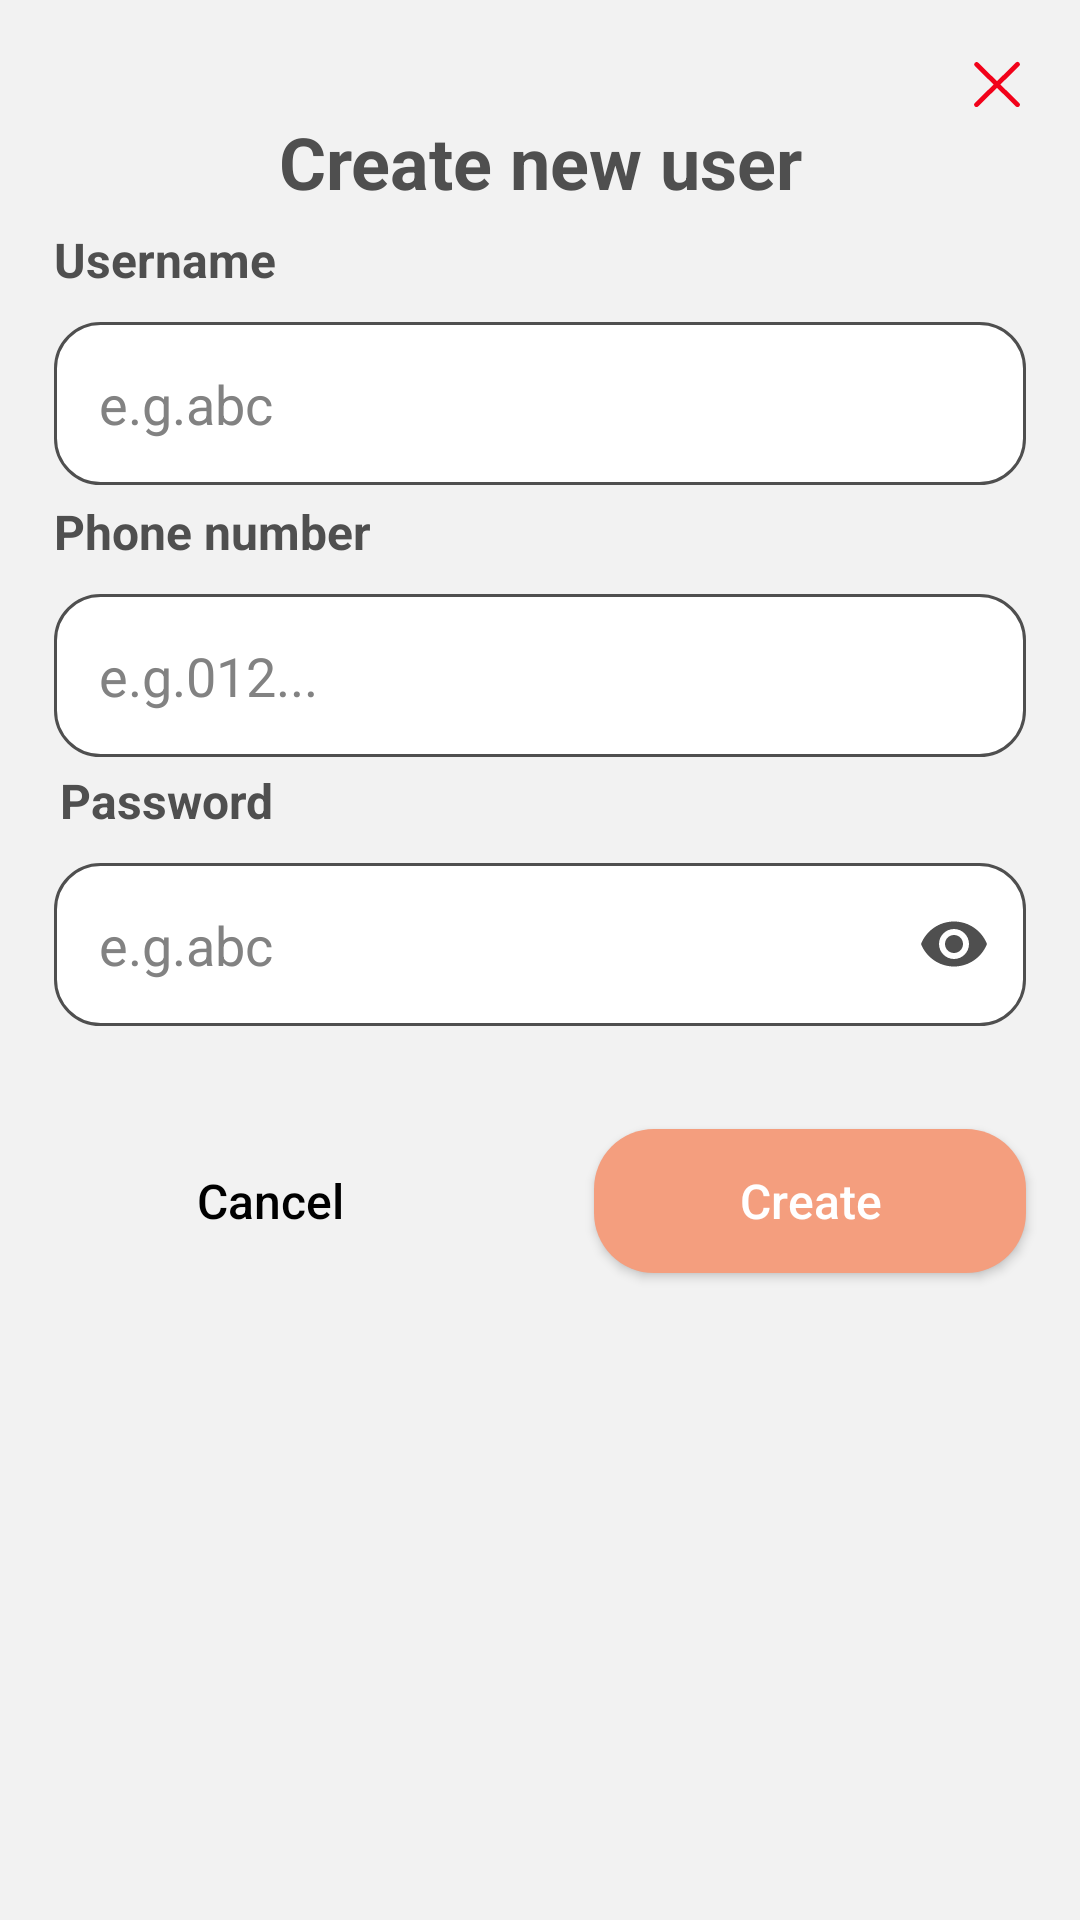

Locate icon controls on the screen. Image size 1080 × 1920, boxes as {"x1": x1, "y1": y1, "x2": x2, "y2": y2}.
close: {"x1": 974, "y1": 61, "x2": 1020, "y2": 107}
